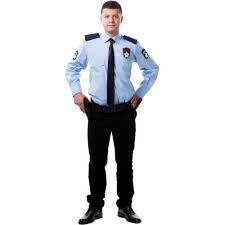uniform: (73, 25, 147, 206)
